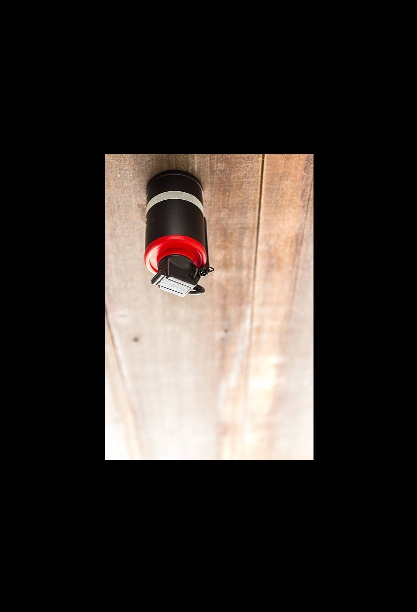e1: (140, 169, 219, 302)
